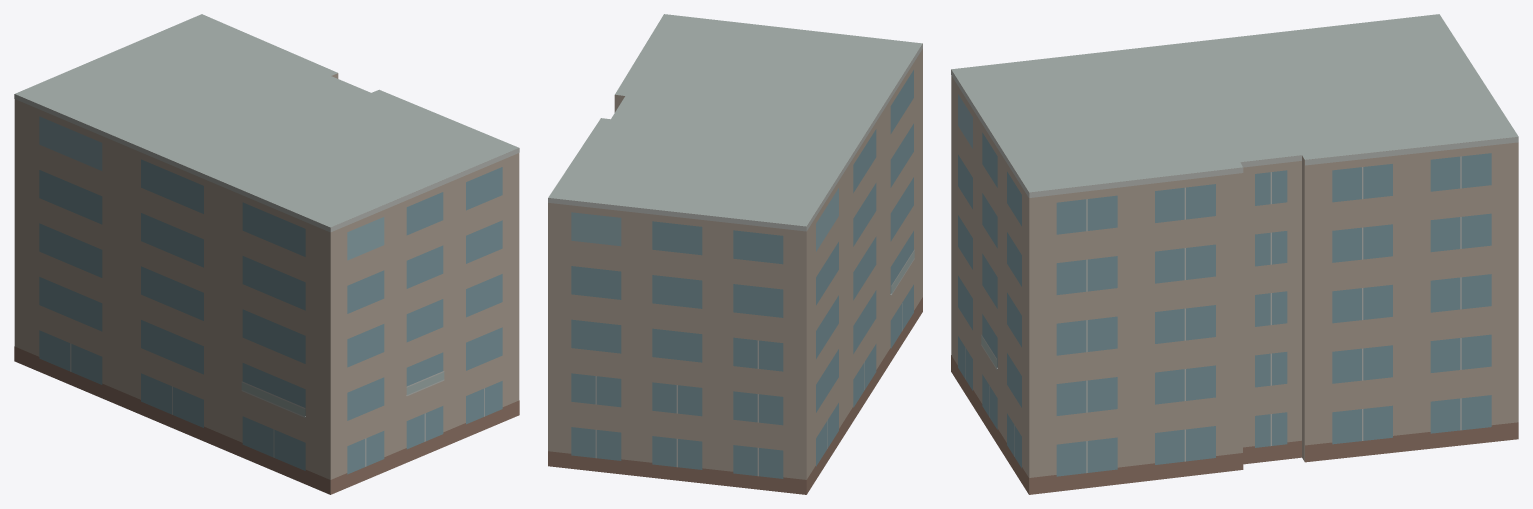
Rendered from survey-upis-32594333.glb.
The picture shows the model from 3 angles, left to right: view 1: azimuth 30°, elevation 25°; view 2: azimuth 150°, elevation 25°; view 3: azimuth 270°, elevation 25°; orthographic projection. The views are drawn at different scales.
Parts seen in each view (by area): view 1: survey-upis-32594333.tmp; view 2: survey-upis-32594333.tmp; view 3: survey-upis-32594333.tmp.
Boxes of the visible parts, left/top/right/bottom form: survey-upis-32594333.tmp: left=14, top=14, right=519, bottom=494; survey-upis-32594333.tmp: left=548, top=14, right=922, bottom=494; survey-upis-32594333.tmp: left=951, top=14, right=1518, bottom=494.
Size of the model in its own units: 16.59 by 13.1 by 22.3.
